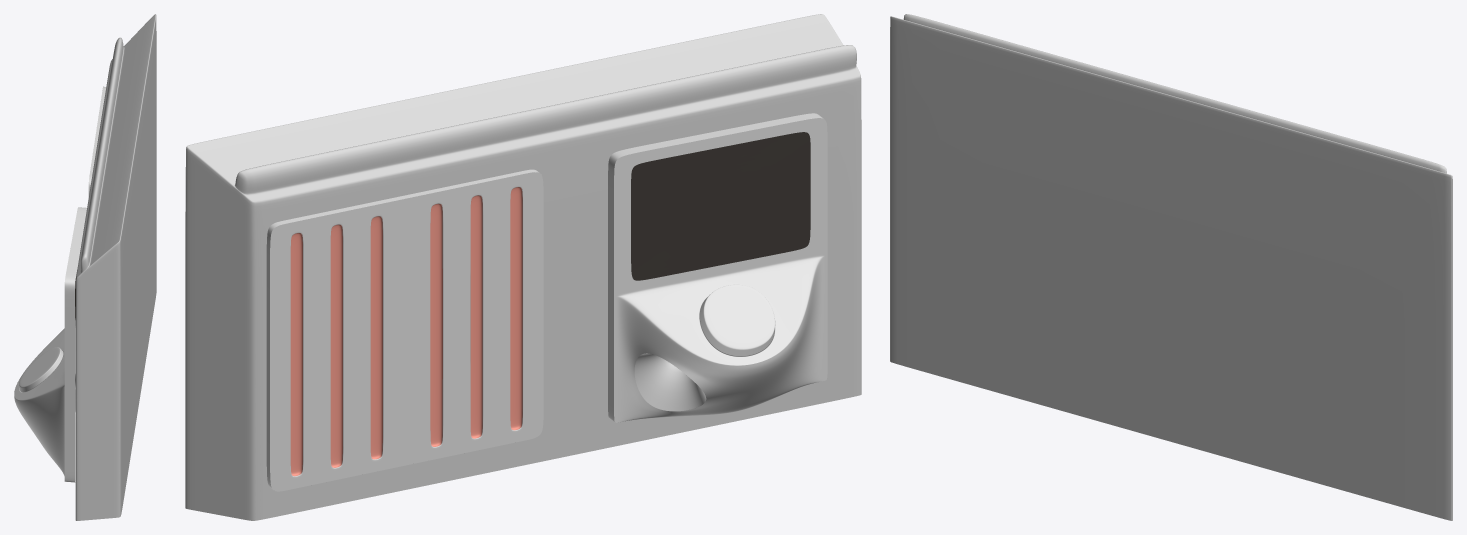
Rendered from Moonbase_Control_Room_Wall_Side_1.fbx.
3 renders of one model, left to right at view 1: azimuth 30°, elevation 25°; view 2: azimuth 150°, elevation 25°; view 3: azimuth 270°, elevation 25°, orthographic. The views are drawn at different scales.
Visible parts, largest first — view 1: Plane.011; view 2: Plane.011; view 3: Plane.011.
Boxes of the visible parts, <box> form: Plane.011: <box>14,14,156,520</box>; Plane.011: <box>185,14,861,520</box>; Plane.011: <box>890,14,1452,520</box>.
Size of the model in its own units: 194 by 172 by 253.
